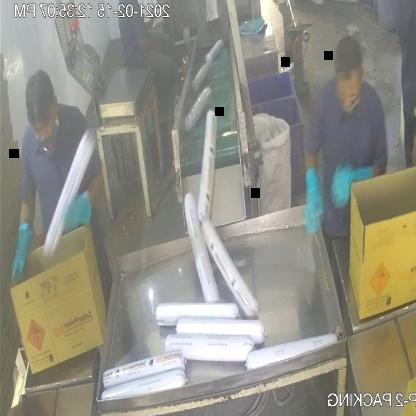glove: (7, 208, 39, 296), (300, 158, 321, 245)
